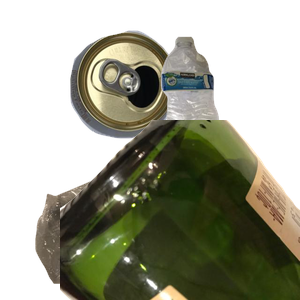glass: (60, 120, 300, 300)
metal: (68, 28, 237, 159)
plastic: (159, 34, 300, 176)
trash: (33, 145, 270, 300)
